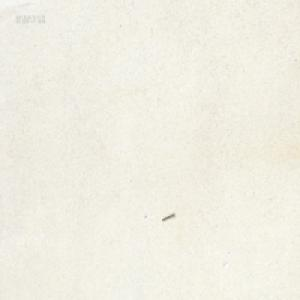Bolt: (161, 211, 174, 221)
